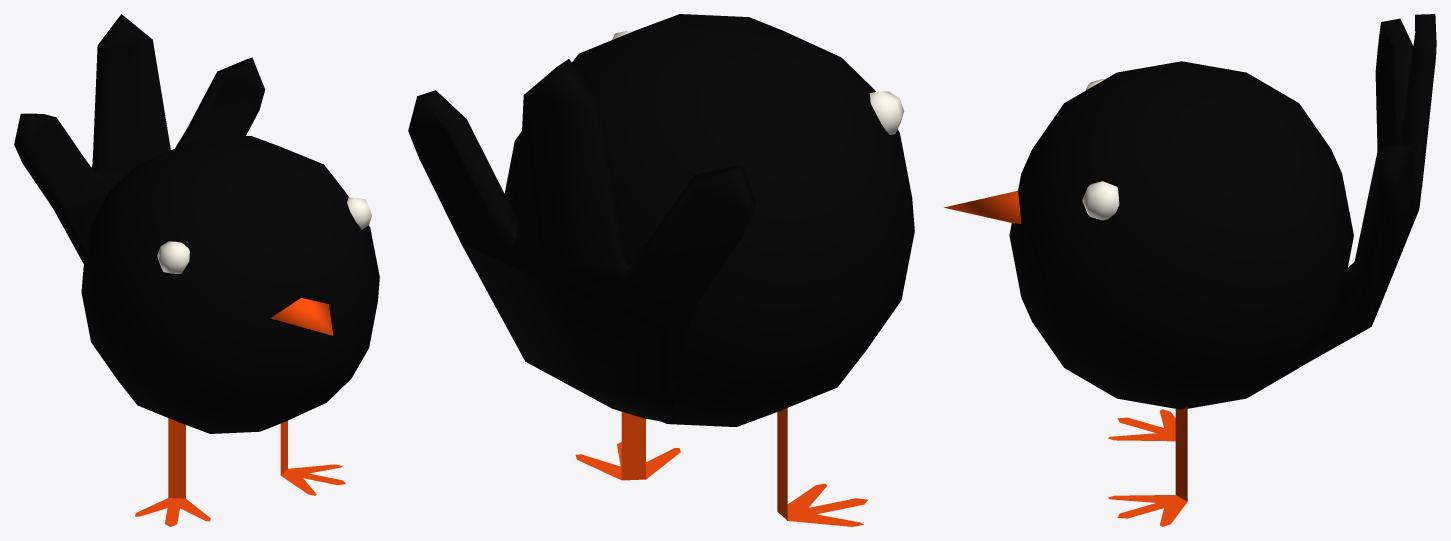
Rendered from SootBird.fbx.
The picture shows the model from 3 angles, left to right: view 1: azimuth 30°, elevation 25°; view 2: azimuth 150°, elevation 25°; view 3: azimuth 270°, elevation 25°; orthographic projection. The views are drawn at different scales.
Visible parts, largest first — view 1: Body, Tail, Legs, Eyes, Beak; view 2: Body, Tail, Legs, Eyes; view 3: Body, Tail, Legs, Beak, Eyes.
Part boxes in pixels (<box>): Body: <box>81,136,379,433</box>; Tail: <box>14,14,265,264</box>; Legs: <box>135,418,345,526</box>; Eyes: <box>157,197,371,273</box>; Beak: <box>270,298,333,335</box>; Body: <box>504,14,914,426</box>; Tail: <box>408,59,755,424</box>; Legs: <box>575,408,867,526</box>; Eyes: <box>612,30,904,134</box>; Body: <box>1009,61,1353,409</box>; Tail: <box>1300,14,1436,366</box>; Legs: <box>1108,407,1187,526</box>; Beak: <box>944,190,1021,223</box>; Eyes: <box>1082,79,1119,220</box>.
Size of the model in its own units: 168 by 244 by 240.
Materials: 1 (1 with a texture image).
